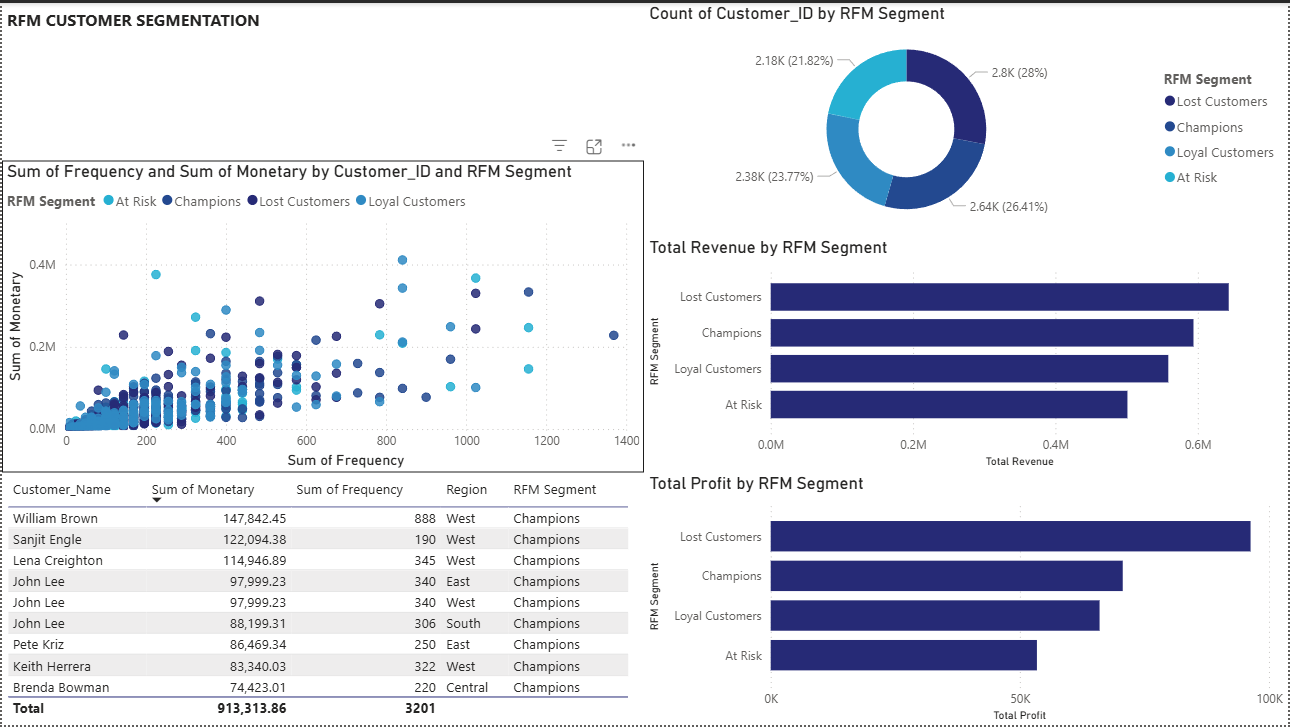

This screenshot's page, from the dashboard's own definition file:
{"tool":"powerbi","page":{"name":"RFM customer segmentation","canvas":[1280,720],"ordinal":2},"visuals":[{"type":"clusteredBarChart","fields":{"Y":["superstore_orders.Total Revenue"],"Category":["superstore_orders.RFM Segment"]},"box":[639.4,232.6,640.6,235.1],"z":0},{"type":"clusteredBarChart","fields":{"Category":["superstore_orders.RFM Segment"],"Y":["superstore_orders.Total Profit"]},"box":[639.4,467.7,640.6,252.5],"z":1000},{"type":"donutChart","fields":{"Category":["superstore_orders.RFM Segment"],"Y":["CountNonNull(superstore_orders.Customer_ID)"]},"box":[639.4,0,640.6,232.6],"z":2000},{"type":"scatterChart","fields":{"X":["Sum(superstore_orders.Frequency)"],"Y":["Sum(superstore_orders.Monetary)"],"Category":["superstore_orders.Customer_ID"],"Series":["superstore_orders.RFM Segment"]},"box":[0,156.7,639.4,311],"z":3000},{"type":"tableEx","fields":{"Values":["superstore_orders.Customer_Name","Sum(superstore_orders.Monetary)","Sum(superstore_orders.Frequency)","superstore_orders.Region","superstore_orders.RFM Segment"]},"box":[0,467.7,639.4,252.5],"z":4000},{"type":"textbox","box":[0,0,271.2,57.2],"z":5000}]}

Visuals, with their boxes in screenshot pixels (x1, y1, x2, y2), scaled from the page's 1280x720 canvas onto the 1290x727 screenshot:
clusteredBarChart - superstore_orders.Total Revenue x superstore_orders.RFM Segment: left=644, top=235, right=1289, bottom=472
clusteredBarChart - superstore_orders.RFM Segment x superstore_orders.Total Profit: left=644, top=472, right=1289, bottom=726
donutChart - superstore_orders.RFM Segment x CountNonNull(superstore_orders.Customer_ID): left=644, top=0, right=1289, bottom=235
scatterChart - Sum(superstore_orders.Frequency) x Sum(superstore_orders.Monetary): left=0, top=158, right=644, bottom=472
tableEx - superstore_orders.Customer_Name x Sum(superstore_orders.Monetary): left=0, top=472, right=644, bottom=726
textbox: left=0, top=0, right=273, bottom=58
